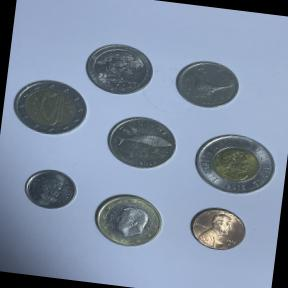1 Euro-B: (84, 188, 170, 256)
2 Euro-B: (6, 74, 92, 145)
Canada-10cent-B: (18, 164, 82, 217)
Canada-2Dollar-B: (185, 124, 282, 205)
Croatia-2Kune-B: (99, 108, 182, 178)
US-1cent-B: (182, 202, 252, 258)
US-25cent-B: (81, 38, 162, 101)
